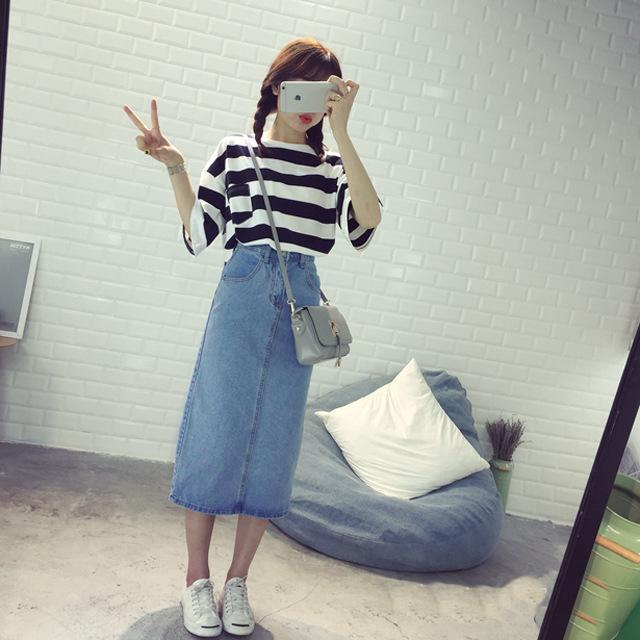long sleeve top: (194, 134, 385, 260)
skirt: (171, 245, 315, 517)
